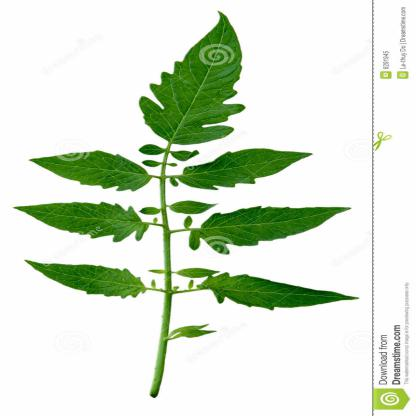tomato leaf: (135, 15, 252, 150), (199, 197, 358, 258), (192, 266, 363, 320), (18, 250, 167, 307), (166, 147, 326, 198), (6, 196, 170, 245), (27, 143, 152, 193)
